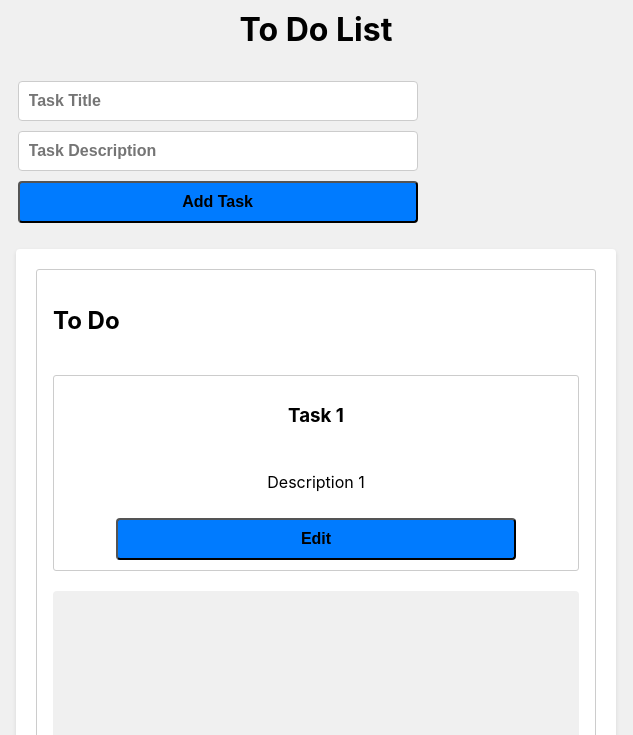
it: ToDoListPage › can add a new task to the To Do section
Type "New Task" into the field with placeholder "Task Title" at (218, 101), box [18,81,418,121]
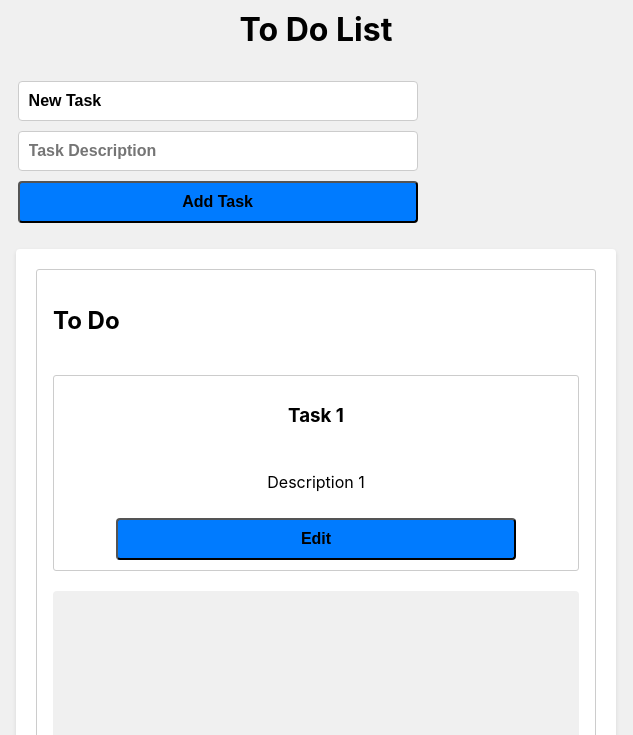
Type "New Desc" into the field with placeholder "Task Description" at (218, 151), box [18,131,418,171]
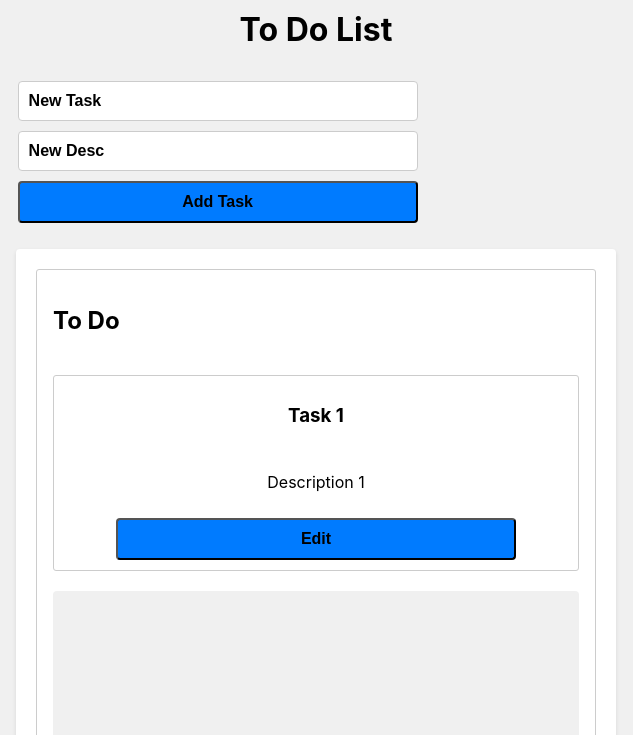
Click the button "Add Task" at (218, 202), box [18,181,418,223]
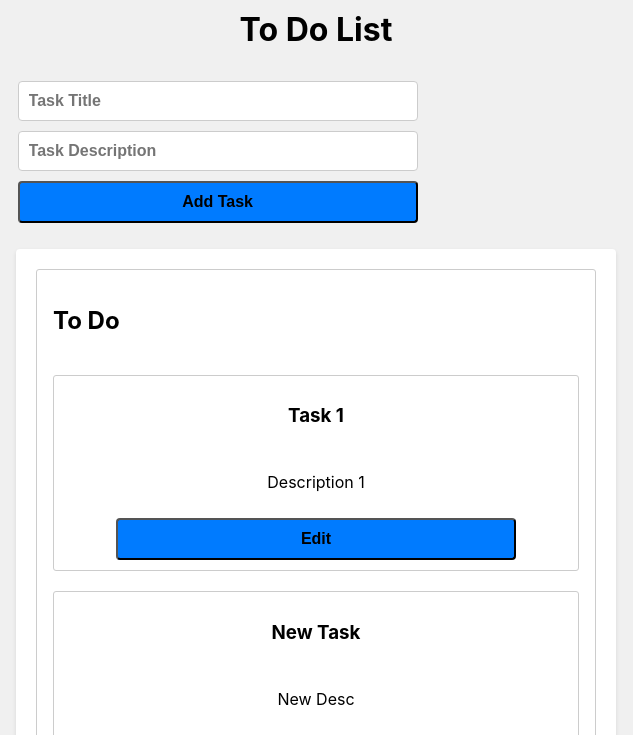
Now the heading "New Task" is shown, box [272,621,360,644]
Now the text "New Desc" is shown, box [277,689,355,709]
